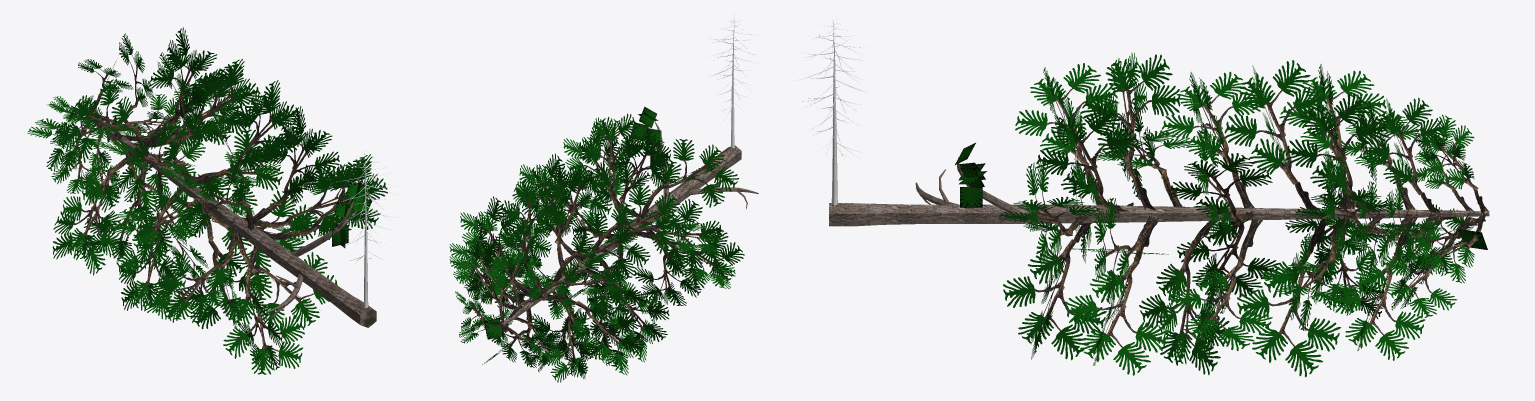
File: Evergreen Final.fbx
3 views of the same model, side by side, from view 1: azimuth 30°, elevation 25°; view 2: azimuth 150°, elevation 25°; view 3: azimuth 270°, elevation 25° (orthographic). The views are drawn at different scales.
Visible parts, largest first — view 1: Pine Tree, tree; view 2: Pine Tree, tree; view 3: Pine Tree, tree.
Boxes of the visible parts, x1=… form: Pine Tree: x1=27, y1=27, x2=387, y2=374; tree: x1=336, y1=153, x2=395, y2=308; Pine Tree: x1=449, y1=106, x2=758, y2=382; tree: x1=709, y1=18, x2=757, y2=148; Pine Tree: x1=829, y1=52, x2=1489, y2=377; tree: x1=797, y1=19, x2=872, y2=205.
Size of the model in its own units: 4961 by 5638 by 10432.
